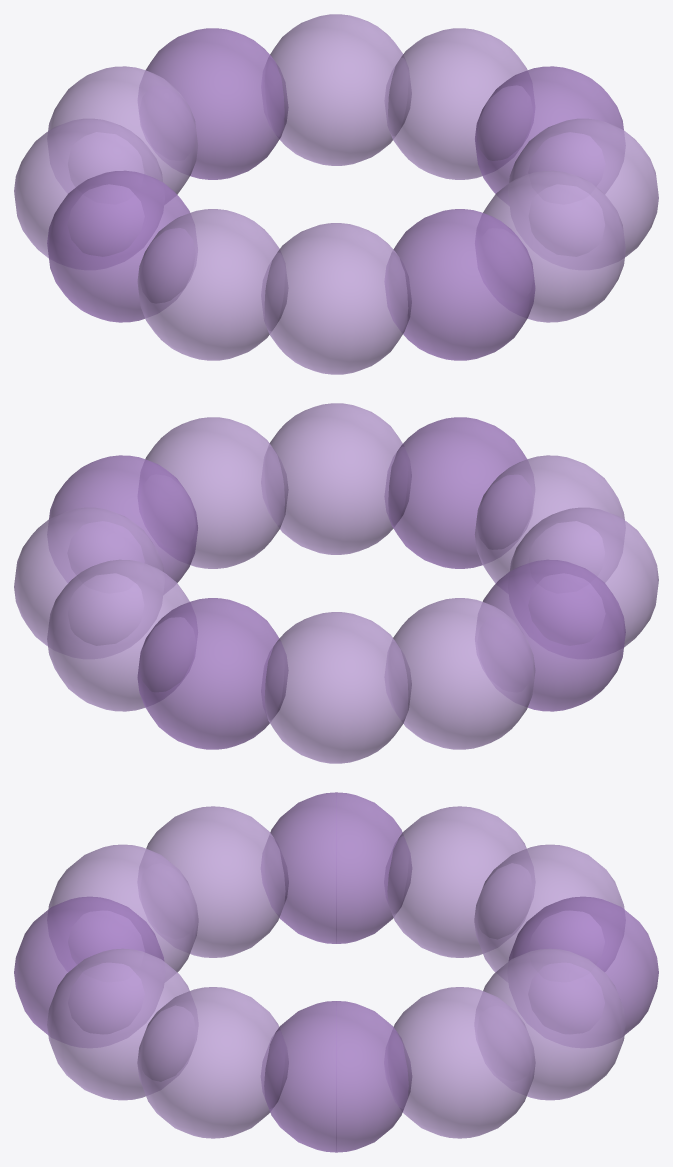
The model's file is bracelet.glb.
3 renders of one model, top to bottom at view 1: azimuth 30°, elevation 25°; view 2: azimuth 150°, elevation 25°; view 3: azimuth 270°, elevation 25°, orthographic.
Visible parts, largest first — view 1: bracelet; view 2: bracelet; view 3: bracelet.
Part boxes in pixels (x1=…): bracelet: x1=14, y1=14, x2=658, y2=374; bracelet: x1=14, y1=403, x2=658, y2=763; bracelet: x1=14, y1=792, x2=658, y2=1152.
Bounding box in the file's own units: 1.36 × 0.32 × 1.36.
